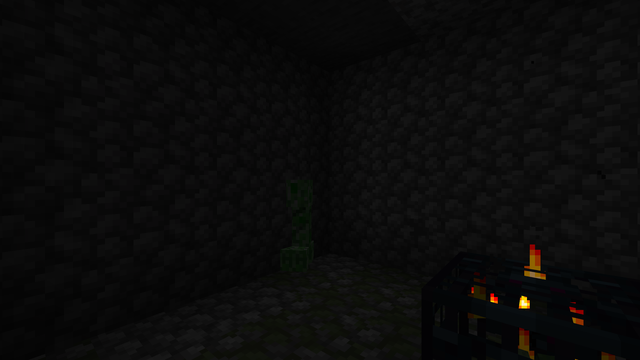creepers: (285, 175, 318, 271)
